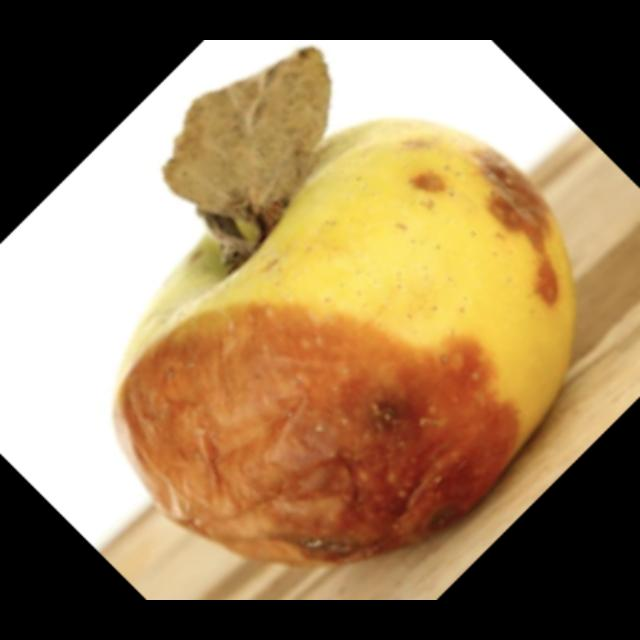Apel Tidak Segar: (29, 46, 616, 586)
